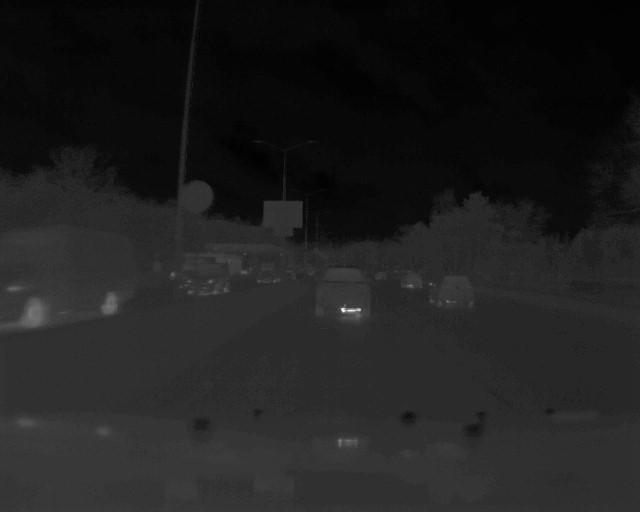car: (312, 266, 372, 317), (179, 260, 232, 298), (428, 273, 475, 305), (256, 263, 284, 286), (400, 271, 425, 288)
